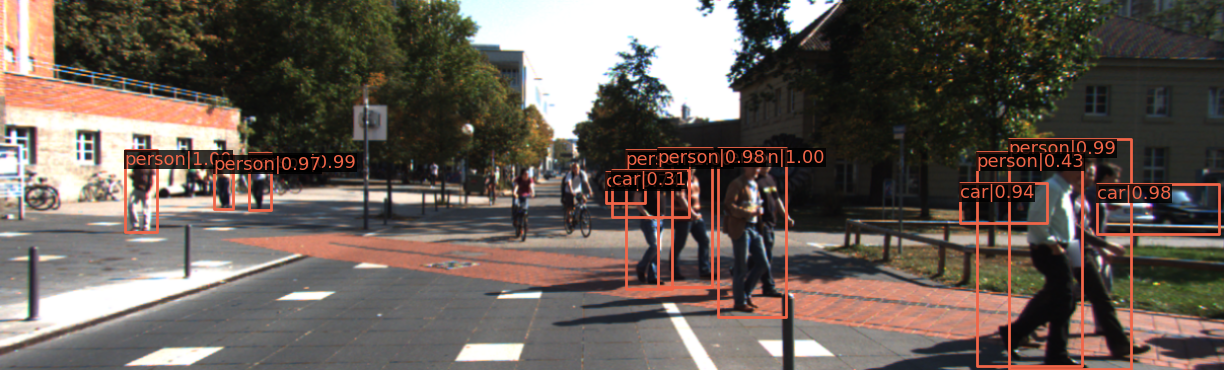car: (1095, 184, 1224, 236), (953, 182, 1069, 235), (1033, 184, 1157, 233), (603, 173, 637, 203)
person: (983, 148, 1105, 370), (978, 154, 1093, 370), (1024, 161, 1131, 352), (712, 146, 783, 303), (710, 150, 769, 321), (653, 151, 713, 286), (618, 154, 665, 297), (123, 150, 160, 236), (210, 152, 234, 209), (250, 156, 271, 211), (183, 149, 199, 197)
